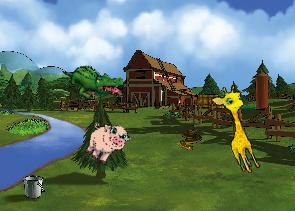crocodile: (62, 60, 126, 104)
giraffe: (208, 82, 271, 176)
pig: (79, 115, 133, 170)
